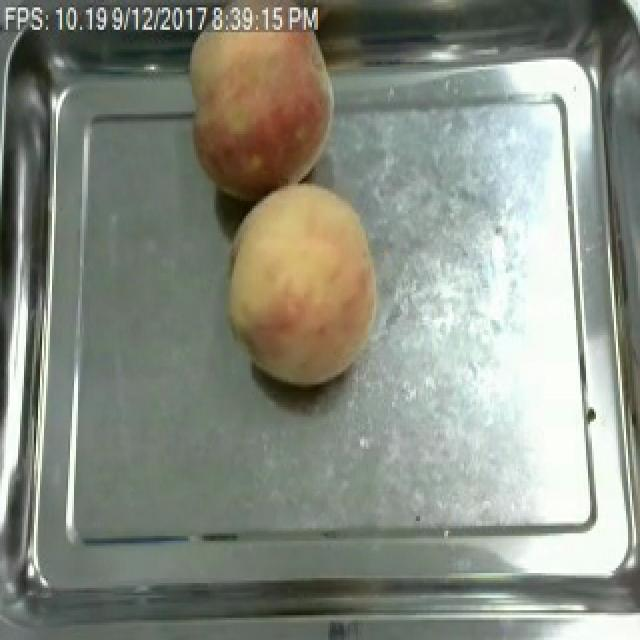Fruit: (218, 176, 386, 397), (182, 12, 344, 206)
